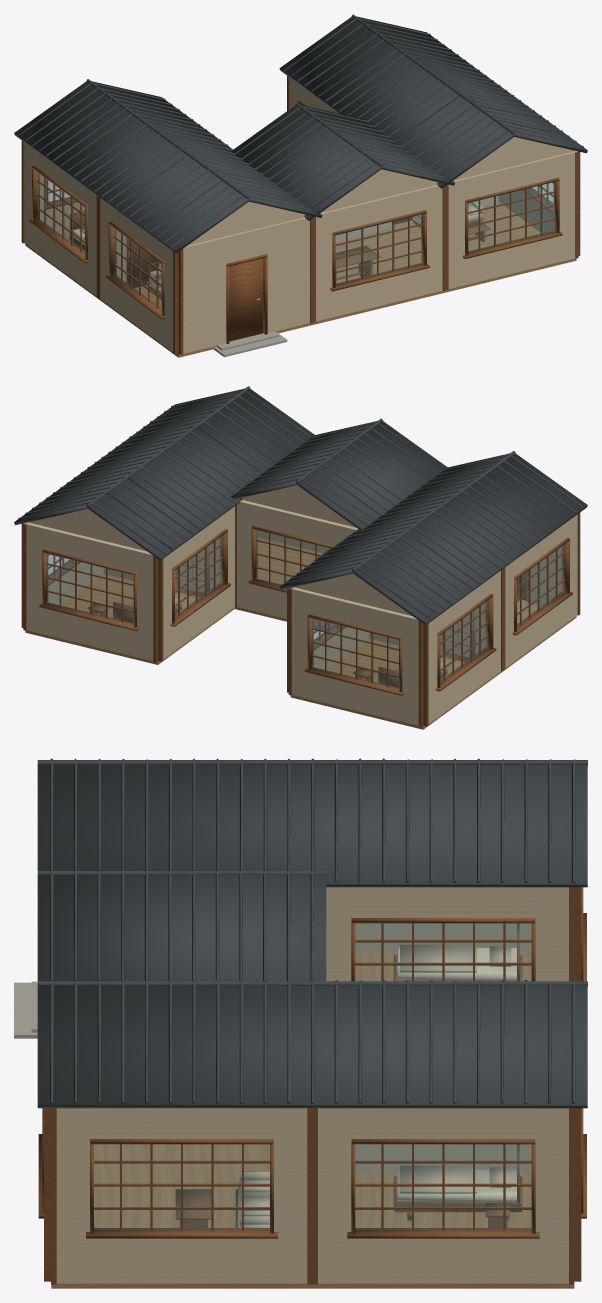
The model's file is bld-teacourt-lod-565fcdb6c8dd.glb.
3 renders of one model, top to bottom at view 1: azimuth 30°, elevation 25°; view 2: azimuth 150°, elevation 25°; view 3: azimuth 270°, elevation 25°, orthographic. The views are drawn at different scales.
Parts seen in each view (by area): view 1: surface_graphite, surface_linen, surface_walnut, surface_Optical_smoke, surface_oak, surface_stone; view 2: surface_graphite, surface_linen, surface_walnut, surface_Optical_smoke, surface_oak; view 3: surface_graphite, surface_linen, surface_Optical_smoke, surface_walnut, surface_oak, surface_ivory, surface_stone.
Part boxes in pixels (<box>): surface_graphite: <box>14,14,587,253</box>; surface_linen: <box>24,78,577,353</box>; surface_walnut: <box>21,76,580,354</box>; surface_Optical_smoke: <box>38,173,554,310</box>; surface_oak: <box>25,202,576,357</box>; surface_stone: <box>213,331,287,357</box>; surface_graphite: <box>14,386,587,625</box>; surface_linen: <box>24,485,577,725</box>; surface_walnut: <box>21,505,580,726</box>; surface_Optical_smoke: <box>47,530,563,688</box>; surface_oak: <box>25,537,576,729</box>; surface_graphite: <box>37,758,587,1108</box>; surface_linen: <box>56,887,568,1283</box>; surface_Optical_smoke: <box>94,923,530,1229</box>; surface_walnut: <box>38,887,586,1284</box>; surface_oak: <box>51,952,574,1288</box>; surface_ivory: <box>397,948,516,1201</box>; surface_stone: <box>14,981,37,1038</box>.
Size of the model in its own units: 12.45 by 4.25 by 8.78.
Materials: 11 (4 with a texture image).
